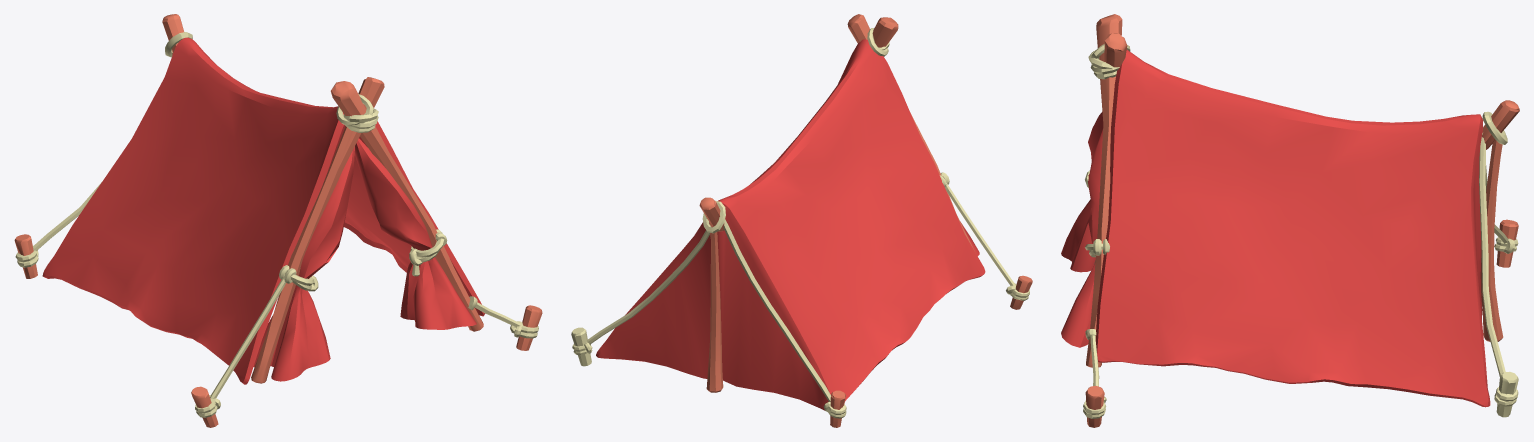
Rendered from tent.glb.
3 views of the same model, side by side, from view 1: azimuth 30°, elevation 25°; view 2: azimuth 150°, elevation 25°; view 3: azimuth 270°, elevation 25° (orthographic). The views are drawn at different scales.
Parts seen in each view (by area): view 1: e15910b5_8617_46ee_bb48_5f864ff63799; view 2: e15910b5_8617_46ee_bb48_5f864ff63799; view 3: e15910b5_8617_46ee_bb48_5f864ff63799.
Boxes of the visible parts, x1=… form: e15910b5_8617_46ee_bb48_5f864ff63799: x1=14, y1=14, x2=542, y2=427; e15910b5_8617_46ee_bb48_5f864ff63799: x1=571, y1=14, x2=1032, y2=427; e15910b5_8617_46ee_bb48_5f864ff63799: x1=1061, y1=14, x2=1519, y2=427.
Bounding box in the file's own units: 0.9312 × 0.771 × 0.9995.
